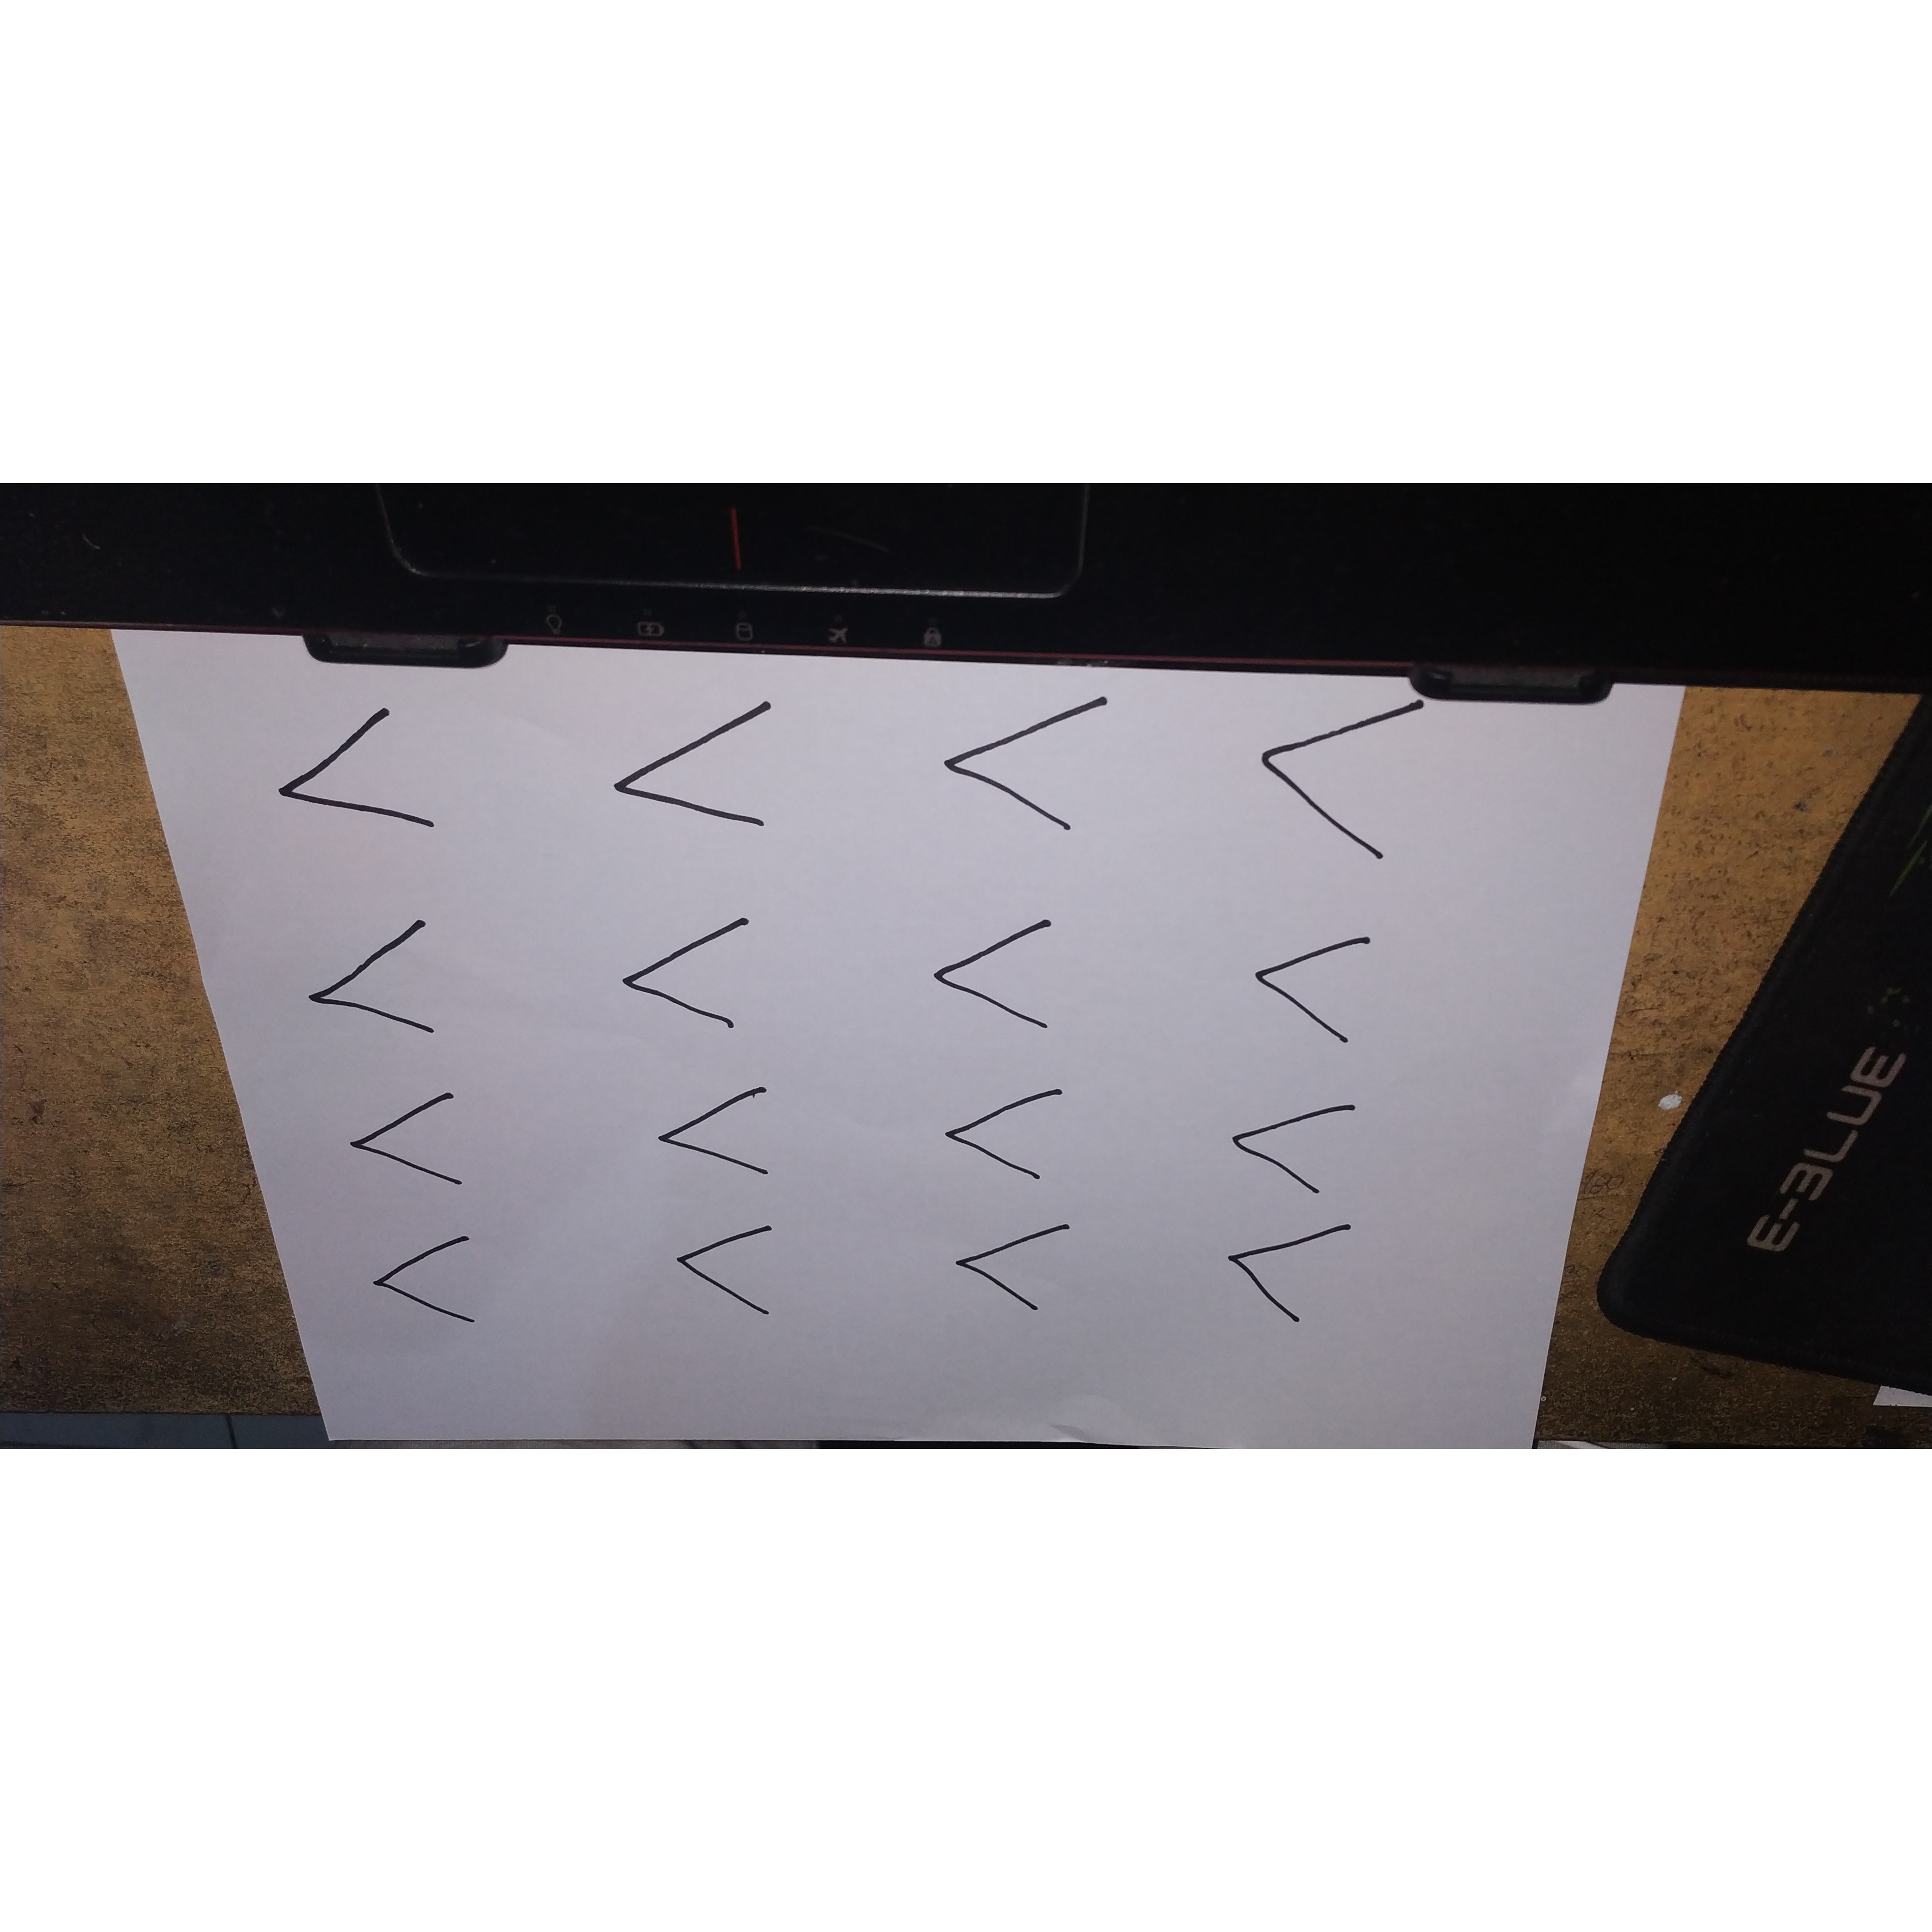lessthan: (1250, 697, 1439, 869), (253, 691, 461, 840), (933, 697, 1120, 840), (603, 697, 782, 842), (282, 913, 455, 1050), (355, 1228, 539, 1344), (616, 909, 767, 1041), (927, 913, 1072, 1050), (1210, 1218, 1383, 1334), (1219, 1092, 1376, 1214), (343, 1083, 498, 1201), (948, 1214, 1095, 1335), (1248, 928, 1387, 1056), (645, 1080, 811, 1182), (662, 1218, 813, 1327), (938, 1081, 1086, 1186)
